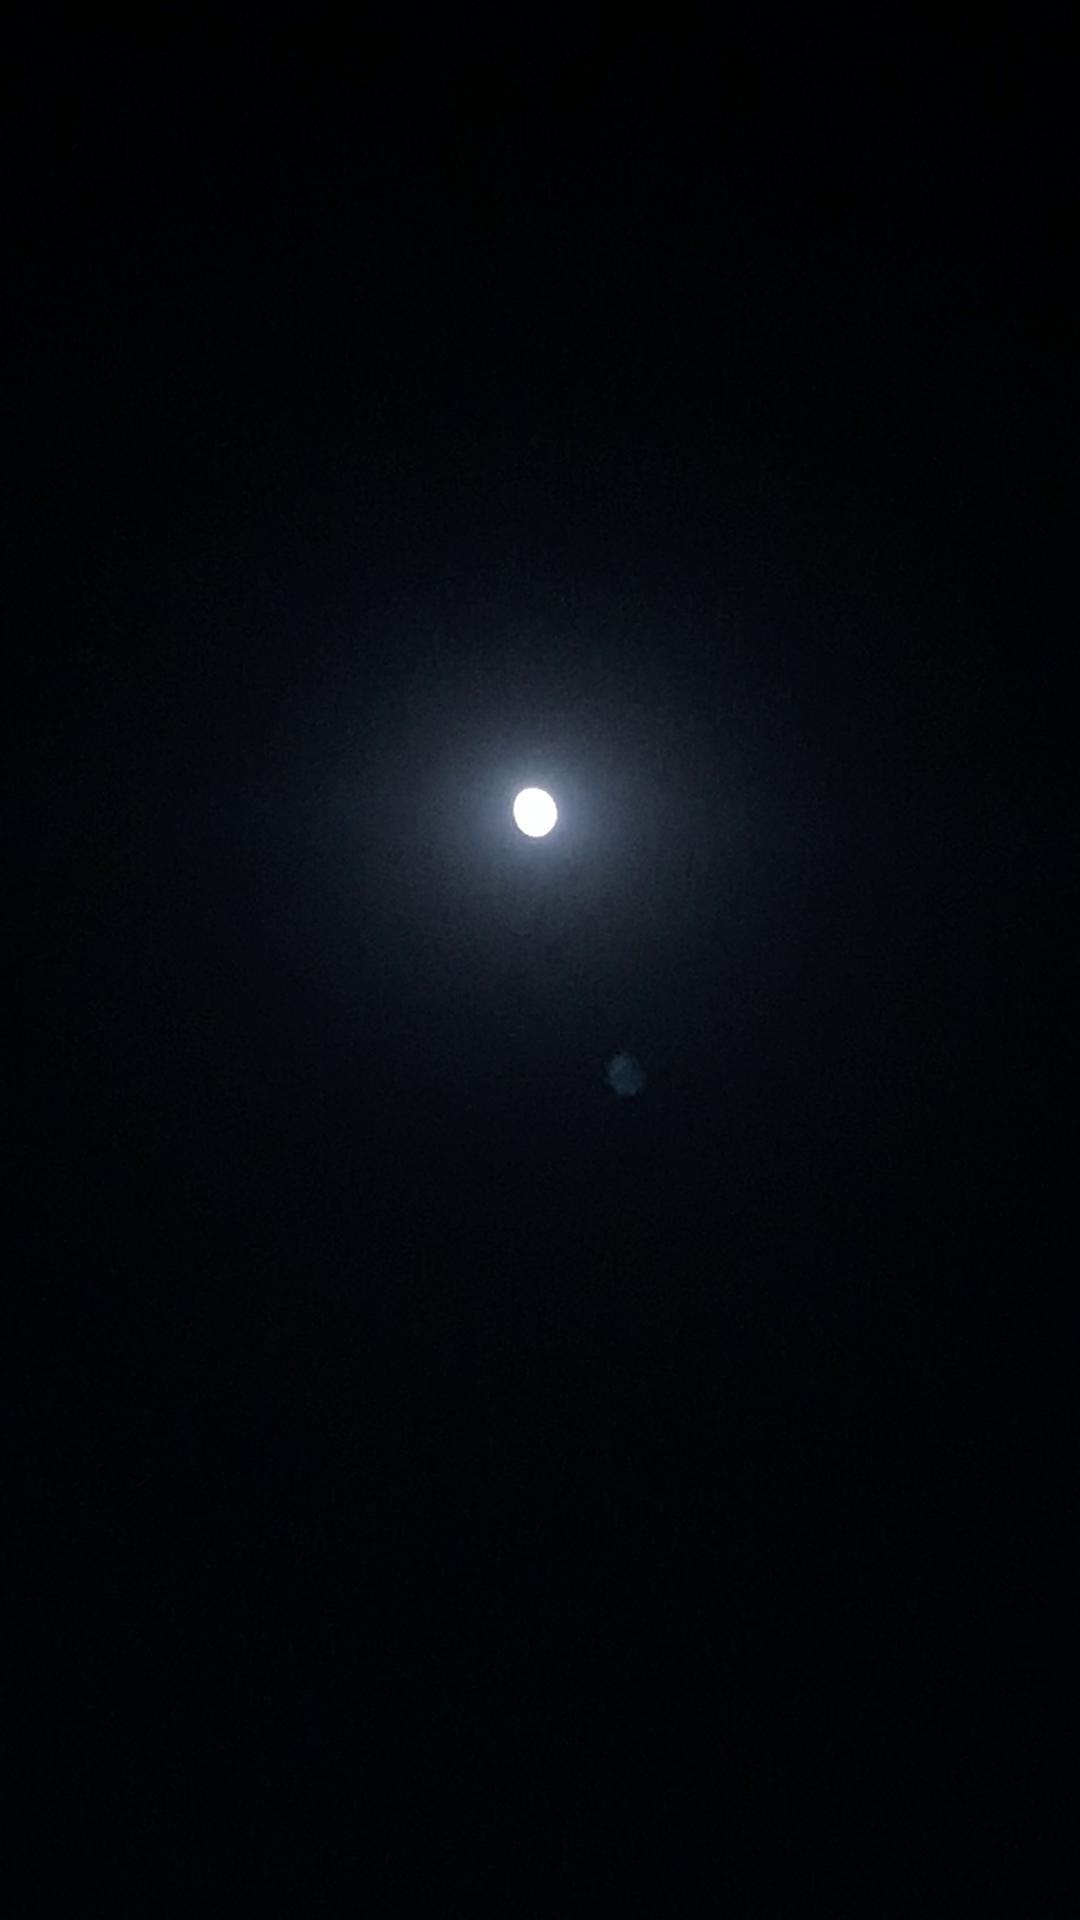moon: (492, 761, 579, 857)
